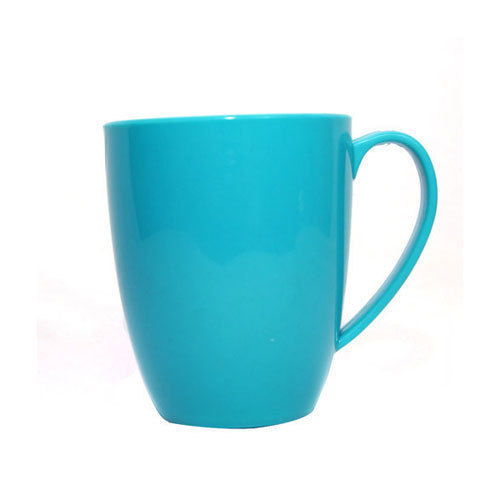cup: (98, 112, 442, 431)
